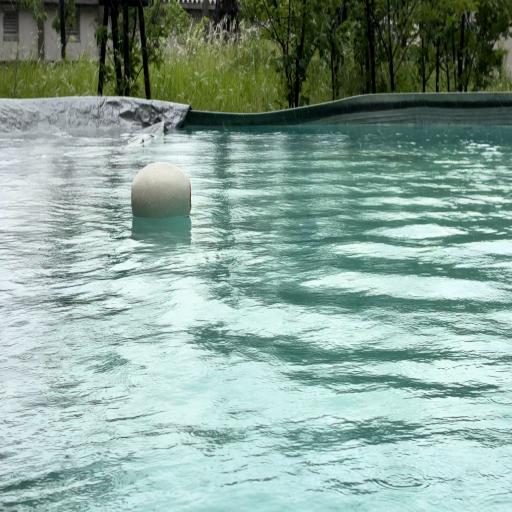white buoy: (131, 164, 192, 218)
